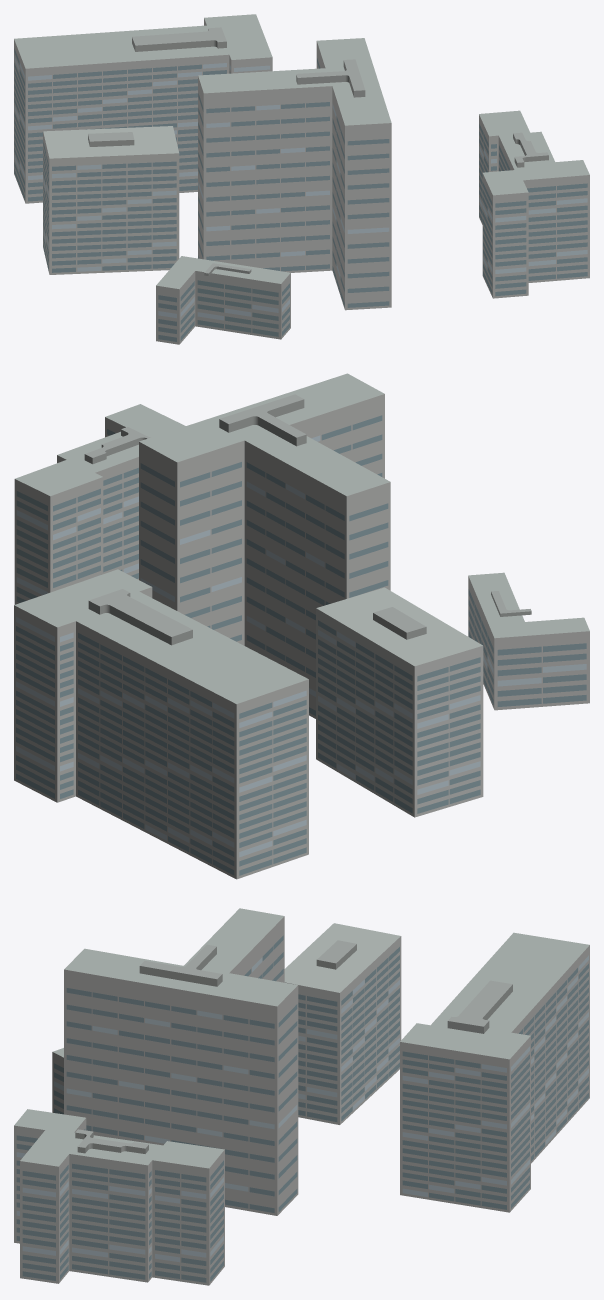
The model's file is apt-a14388208.glb.
3 views of the same model, one above another, from view 1: azimuth 30°, elevation 25°; view 2: azimuth 150°, elevation 25°; view 3: azimuth 270°, elevation 25° (orthographic). The views are drawn at different scales.
Parts seen in each view (by area): view 1: apt-a14388208; view 2: apt-a14388208; view 3: apt-a14388208.
Boxes of the visible parts, x1,y1,x2,y2 form: apt-a14388208: [14, 14, 589, 344]; apt-a14388208: [14, 373, 589, 879]; apt-a14388208: [14, 908, 589, 1285].
Bounding box in the file's own units: 157 × 69 × 166.
